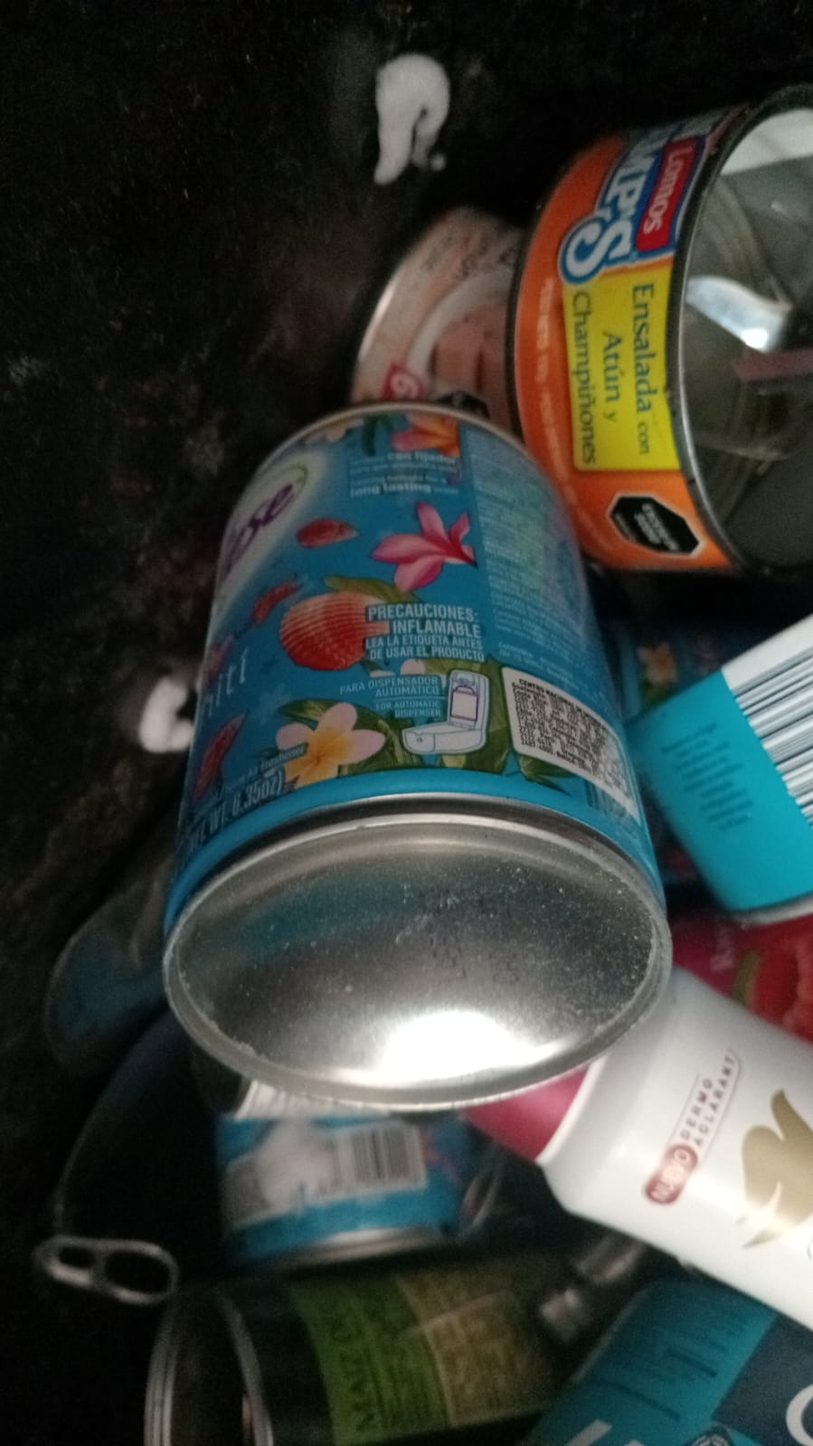Metal: (163, 413, 664, 1107), (512, 91, 813, 575), (34, 1212, 557, 1446), (623, 623, 813, 938), (206, 1123, 512, 1264)
